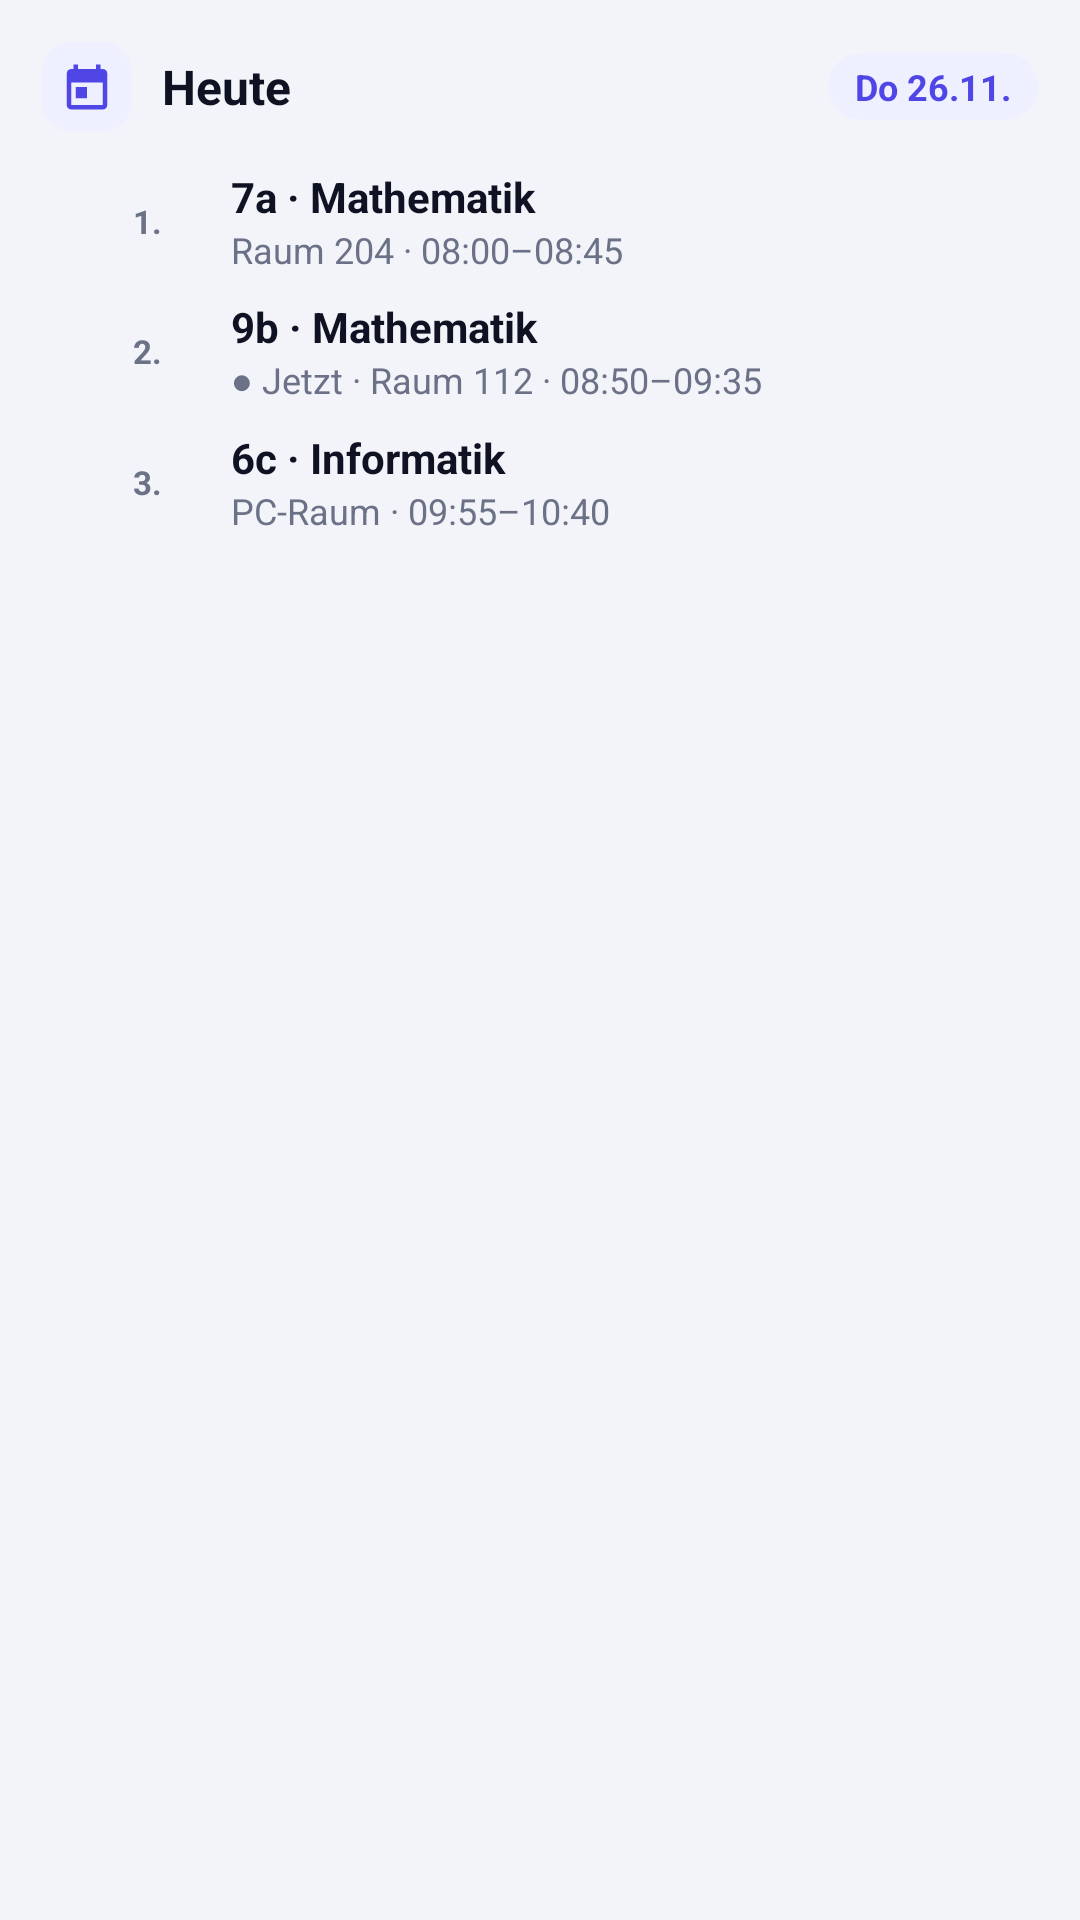

Named icons in this screenshot (1080 × 1920) and their centers, point (x, y):
today: point (87, 87)
